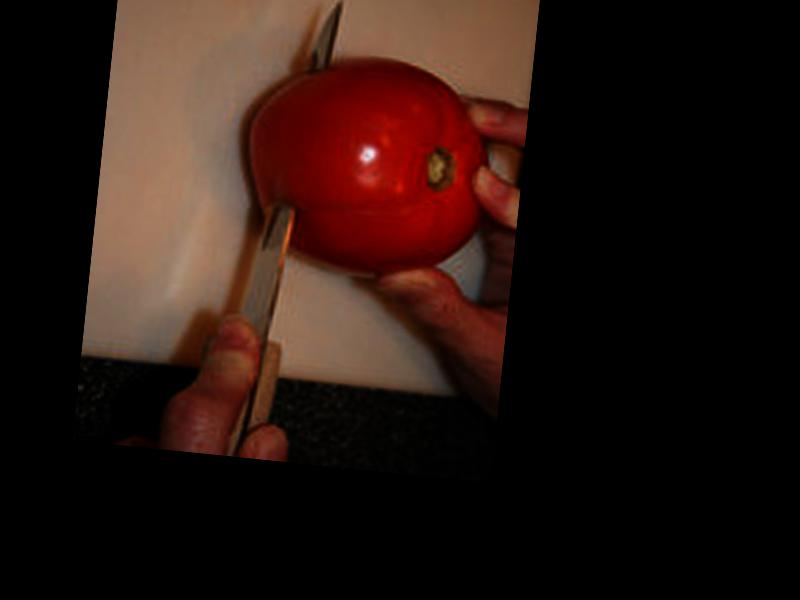Tomato: (237, 44, 500, 283)
